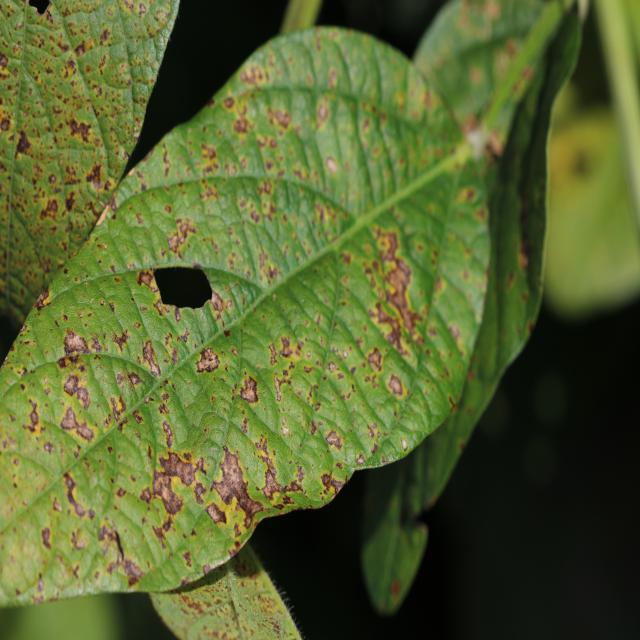Bacterial_Blight: (376, 305, 410, 353), (152, 473, 185, 516), (59, 404, 94, 443), (373, 225, 400, 259), (22, 400, 44, 436), (141, 339, 162, 375), (62, 330, 90, 357), (387, 257, 412, 287), (260, 466, 282, 499), (257, 248, 279, 281), (195, 347, 220, 374), (238, 375, 259, 405), (108, 394, 128, 423), (368, 344, 388, 370), (200, 143, 219, 170), (205, 502, 227, 525), (269, 107, 291, 130), (111, 329, 130, 353), (63, 374, 81, 397), (161, 420, 175, 449), (325, 429, 343, 451), (387, 373, 404, 396), (166, 232, 183, 255), (75, 386, 91, 410), (279, 335, 295, 358), (210, 291, 224, 315), (233, 117, 251, 135), (137, 270, 155, 288), (193, 482, 207, 504), (316, 103, 329, 124), (41, 526, 52, 550), (268, 343, 278, 366), (321, 472, 332, 490), (43, 440, 54, 455), (355, 452, 366, 466), (328, 360, 337, 373)
Soybean: (0, 27, 489, 609)
